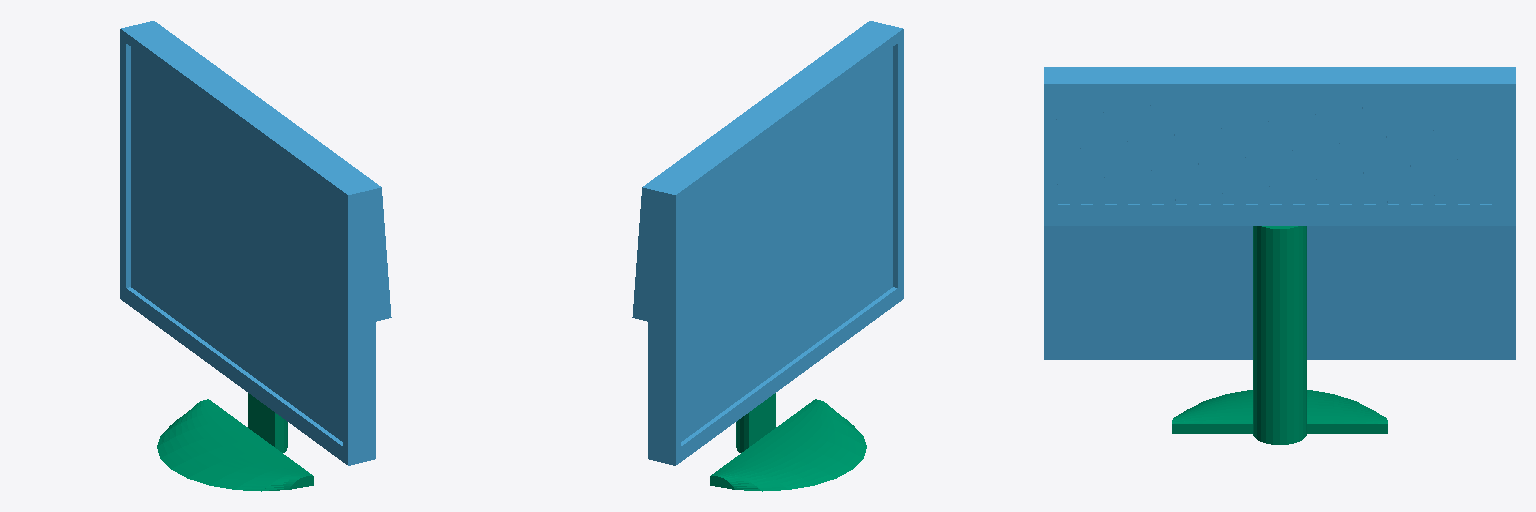
robot.urdf — partnet_15e411905cf8d7d455c2bf8f07989ec0:
<?xml version="1.0" ?>
<robot name="partnet_15e411905cf8d7d455c2bf8f07989ec0">
	<link name="base"/>
	<link name="link_0">
		<visual name="frame-6">
			<origin xyz="0.00911528009472029 -0.5911290000000005 -0.00024366107362877587"/>
			<geometry>
				<mesh filename="textured_objs/new-3.obj"/>
			</geometry>
		</visual>
		<visual name="screen-7">
			<origin xyz="0.00911528009472029 -0.5911290000000005 -0.00024366107362877587"/>
			<geometry>
				<mesh filename="textured_objs/new-2.obj"/>
			</geometry>
		</visual>
		<collision>
			<origin xyz="0.00911528009472029 -0.5911290000000005 -0.00024366107362877587"/>
			<geometry>
				<mesh filename="textured_objs/new-3.obj"/>
			</geometry>
		</collision>
		<collision>
			<origin xyz="0.00911528009472029 -0.5911290000000005 -0.00024366107362877587"/>
			<geometry>
				<mesh filename="textured_objs/new-2.obj"/>
			</geometry>
		</collision>
	</link>
	<joint name="joint_0" type="prismatic">
		<origin xyz="-0.00911528009472029 0.5911290000000005 0.00024366107362877587"/>
		<axis xyz="0 1 0"/>
		<child link="link_0"/>
		<parent link="link_1"/>
		<limit lower="0" upper="0.4"/>
	</joint>
	<link name="link_1">
		<visual name="base_support-4">
			<origin xyz="0 0 0"/>
			<geometry>
				<mesh filename="textured_objs/new-1.obj"/>
			</geometry>
		</visual>
		<visual name="surface-5">
			<origin xyz="0 0 0"/>
			<geometry>
				<mesh filename="textured_objs/new-0.obj"/>
			</geometry>
		</visual>
		<collision>
			<origin xyz="0 0 0"/>
			<geometry>
				<mesh filename="textured_objs/new-1.obj"/>
			</geometry>
		</collision>
		<collision>
			<origin xyz="0 0 0"/>
			<geometry>
				<mesh filename="textured_objs/new-0.obj"/>
			</geometry>
		</collision>
	</link>
	<joint name="joint_1" type="fixed">
		<origin rpy="1.570796326794897 0 -1.570796326794897" xyz="0 0 0"/>
		<child link="link_1"/>
		<parent link="base"/>
	</joint>
</robot>

--- Facts derived from the render (not from the file) ---
Views: 3 orthographic renders of the robot side by side, from view 1: azimuth 30°, elevation 25°; view 2: azimuth 150°, elevation 25°; view 3: azimuth 270°, elevation 25°.
Robot: partnet_15e411905cf8d7d455c2bf8f07989ec0 — 3 links, 2 joints (1 prismatic, 1 fixed); root link base; default pose: all joints at 0.
Visible links, largest first — view 1: link_0, link_1; view 2: link_0, link_1; view 3: link_0, link_1.
Link boxes in pixels (box(x1,y1,x2,y2)): link_0: box(120, 21, 391, 465); link_1: box(157, 393, 313, 491); link_0: box(632, 21, 903, 465); link_1: box(710, 393, 866, 491); link_0: box(1044, 67, 1515, 359); link_1: box(1172, 226, 1387, 444).
Size in the robot's own frame: 0.4691 by 1.63 by 1.35 metres.
4 mesh visuals loaded from 4 distinct referenced files (4 OBJ).
